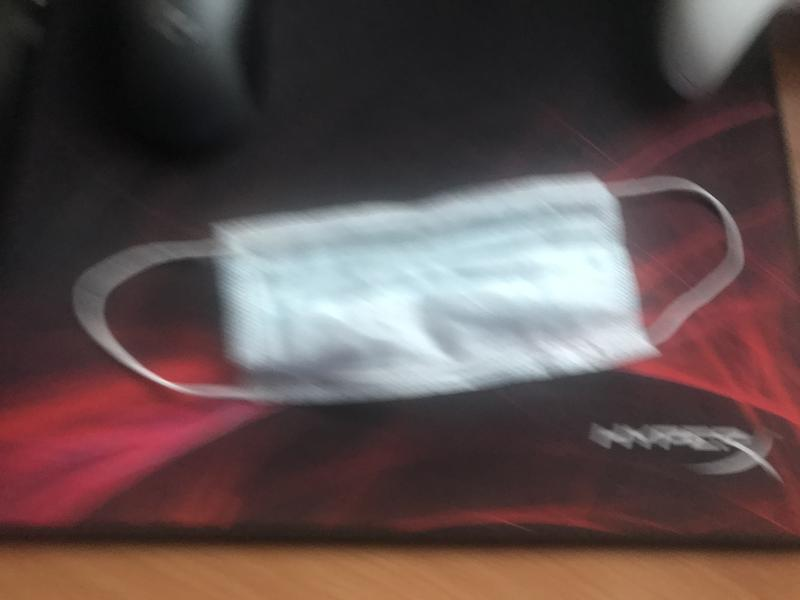medical_mask: (71, 174, 740, 403)
